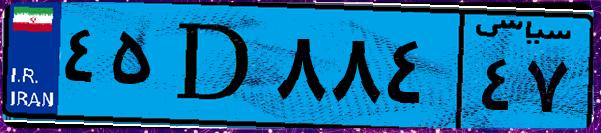4: (385, 28, 445, 110), (57, 26, 110, 100), (475, 38, 525, 113)
5: (110, 28, 158, 98)
7: (525, 38, 570, 115)
8: (270, 28, 330, 110), (330, 28, 385, 110)
D: (158, 12, 270, 120)
